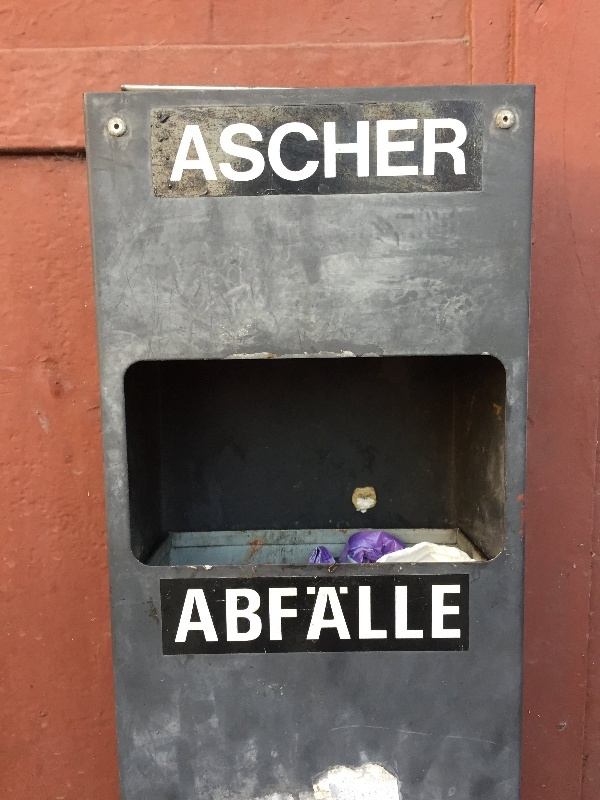text: (193, 116, 208, 188), (209, 116, 224, 188), (225, 116, 240, 188), (241, 116, 256, 188), (257, 116, 272, 188), (273, 116, 288, 188), (289, 116, 304, 188), (305, 116, 320, 188), (321, 116, 336, 188), (337, 116, 352, 188), (353, 116, 368, 188), (369, 116, 384, 188), (385, 116, 400, 188), (401, 116, 416, 188), (417, 116, 432, 188), (433, 116, 448, 188), (449, 116, 464, 188), (193, 583, 208, 648), (209, 583, 224, 648), (225, 583, 240, 648), (241, 583, 256, 648), (257, 583, 272, 648), (273, 583, 288, 648), (289, 583, 304, 648), (305, 583, 320, 648), (321, 583, 336, 648), (337, 583, 352, 648), (353, 583, 368, 648), (369, 583, 384, 648), (385, 583, 400, 648), (401, 583, 416, 648), (417, 583, 432, 648), (433, 583, 448, 648), (449, 583, 463, 648), (186, 116, 192, 188), (465, 116, 469, 188), (188, 583, 192, 648)
